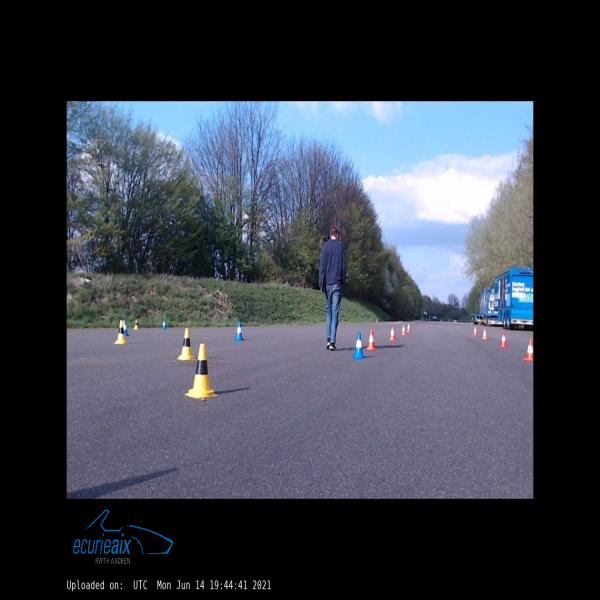blue_cone: (352, 333, 365, 359), (234, 322, 244, 340), (124, 320, 129, 336), (162, 319, 166, 329)
orange_cone: (523, 338, 533, 361), (366, 330, 376, 350), (500, 332, 508, 347), (389, 327, 396, 340), (482, 328, 488, 339), (401, 324, 406, 335), (472, 326, 477, 335), (407, 323, 411, 332)
yellow_cone: (185, 344, 218, 400), (176, 328, 195, 360), (114, 320, 126, 344), (134, 320, 138, 330)
